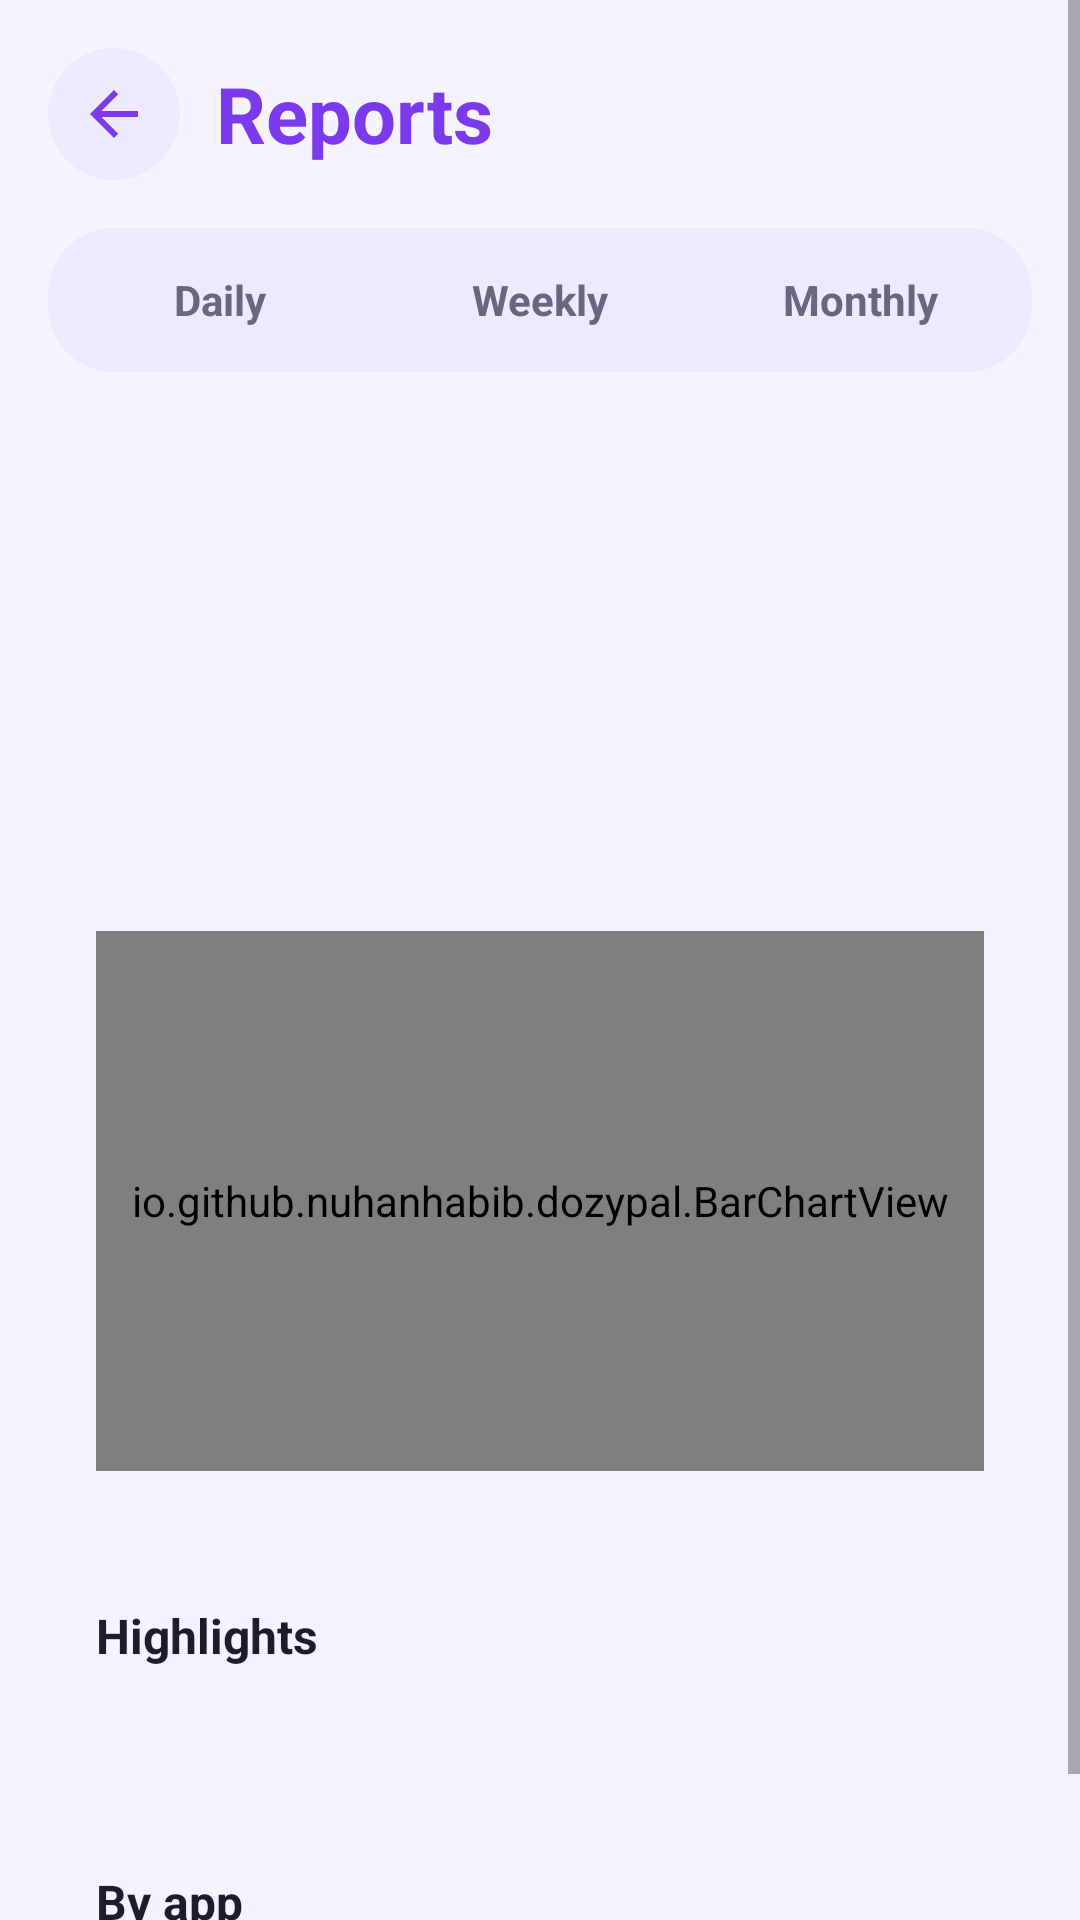

Screen size 1080x1920. Icon name, then its box in pixels as (x1, y1, x2, y2):
Back: (48, 48, 180, 180)
